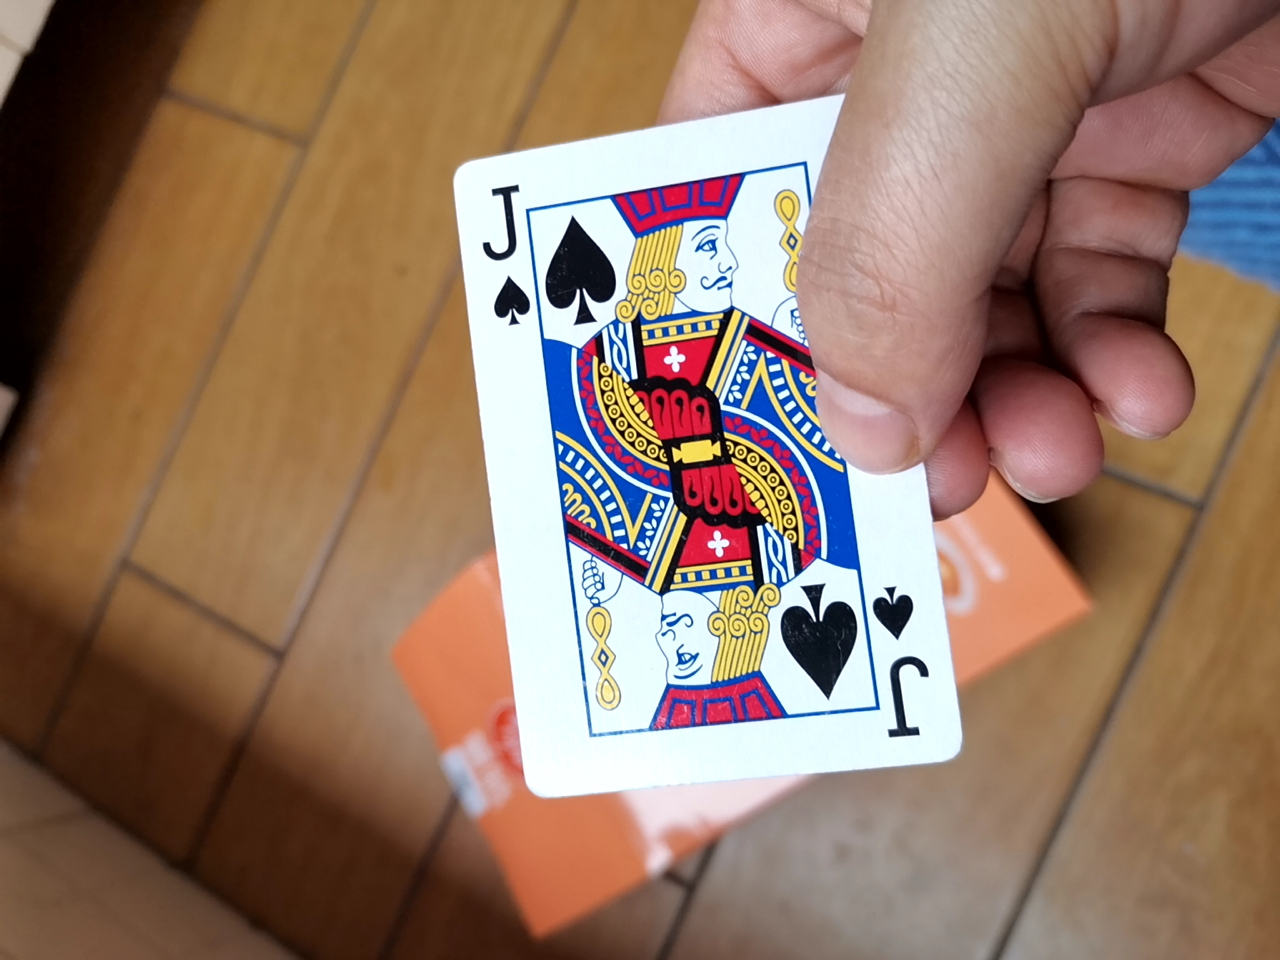ht j: (441, 88, 945, 819)
